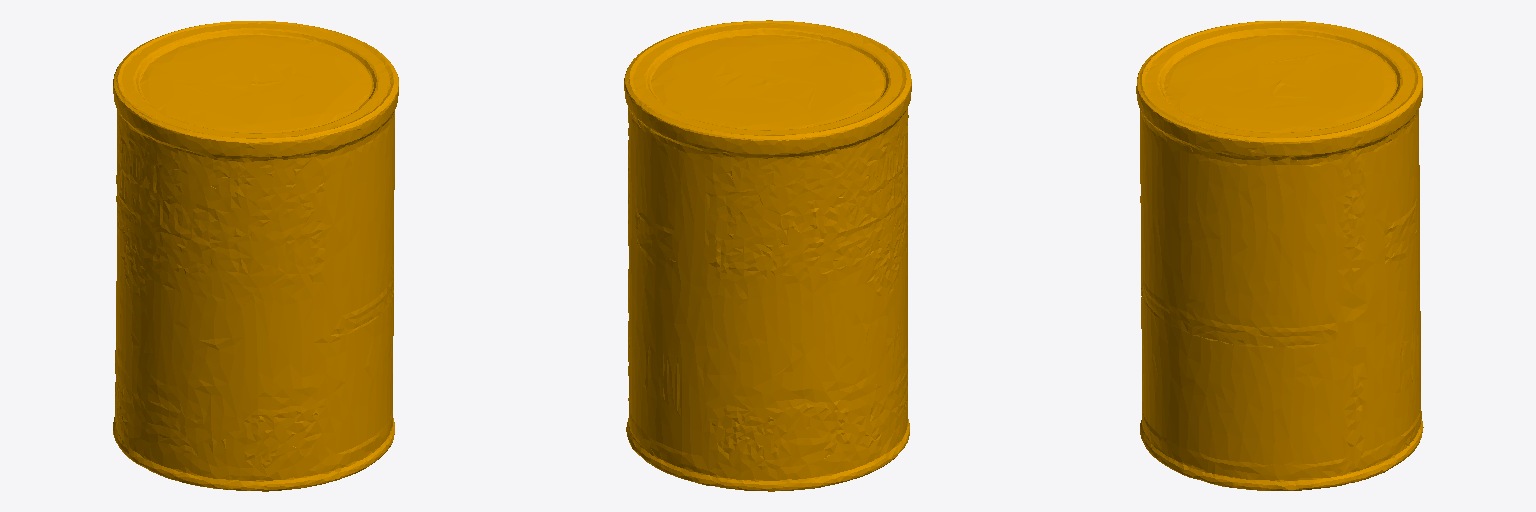
The robot description file, URDF, robot "Don_Franciscos_Gourmet_Coffee_Medium_Decaf_100_Colombian_12_oz_3":
<?xml version="1.0" ?>
<robot name="Don_Franciscos_Gourmet_Coffee_Medium_Decaf_100_Colombian_12_oz_340_g">
  <link name="link_0">
    <inertial>
      <origin xyz="0 0 0" rpy="0 0 0"/>
      <mass value="1.0"/>
      <inertia ixx="0.1" ixy="0.0" ixz="0.0" iyy="0.1" iyz="0.0" izz="0.1"/>
    </inertial>
    <visual name="visual">
      <origin xyz="0 0 0" rpy="0 0 0"/>
      <geometry>
        <mesh filename="meshes/model.obj"/>
      </geometry>
    </visual>
    <collision name="collision_0">
      <origin xyz="0 0 0" rpy="0 0 0"/>
      <geometry>
        <mesh filename="meshes/model.obj"/>
      </geometry>
    </collision>
  </link>
</robot>

--- Facts derived from the render (not from the file) ---
3 views of the same robot in one strip: view 1: azimuth 30°, elevation 25°; view 2: azimuth 150°, elevation 25°; view 3: azimuth 270°, elevation 25° (orthographic).
Model Don_Franciscos_Gourmet_Coffee_Medium_Decaf_100_Colombian_12_oz_3 with 1 links and 0 joints (none), rooted at link_0, posed all joints at 0.
Visible links, largest first — view 1: link_0; view 2: link_0; view 3: link_0.
Boxes of the visible links, x1,y1,x2,y2 form: link_0: [113, 21, 398, 491]; link_0: [624, 20, 911, 491]; link_0: [1136, 20, 1423, 490].
Size in the robot's own frame: 0.1031 by 0.1031 by 0.141 metres.
Meshes: 1 distinct files referenced, 1 mesh visuals loaded (1 OBJ).